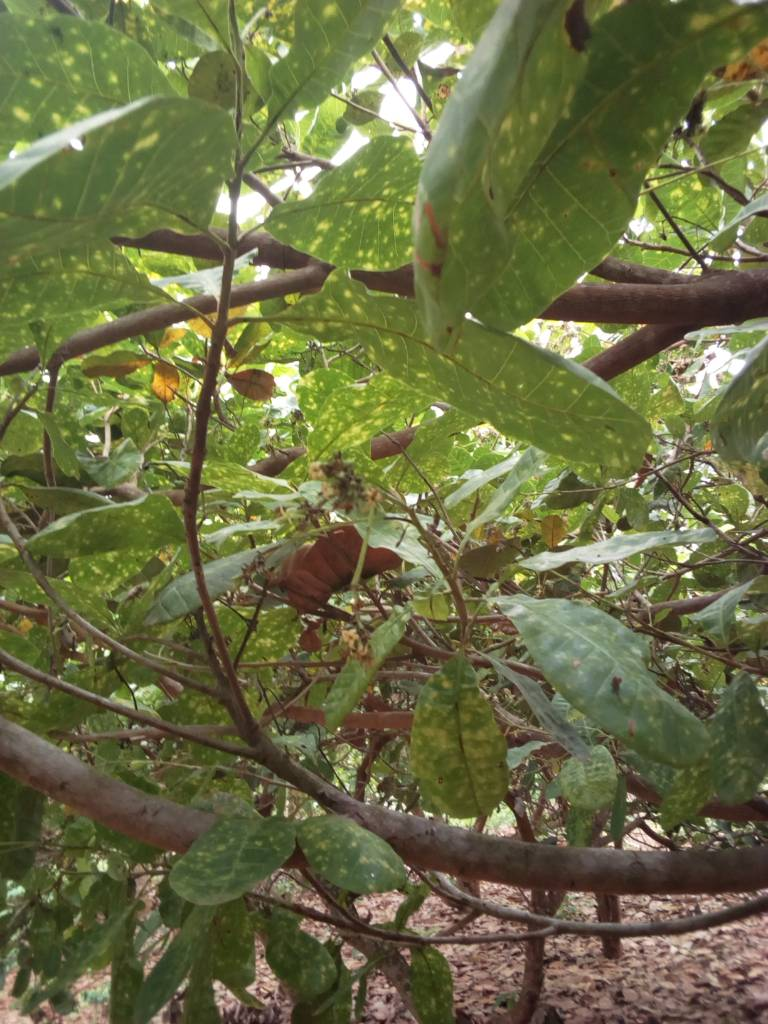Carence minérale: (419, 1, 713, 341), (291, 266, 693, 471), (482, 588, 736, 780), (11, 82, 230, 258), (404, 647, 519, 827), (511, 505, 736, 580), (32, 467, 208, 561), (160, 797, 297, 917)
